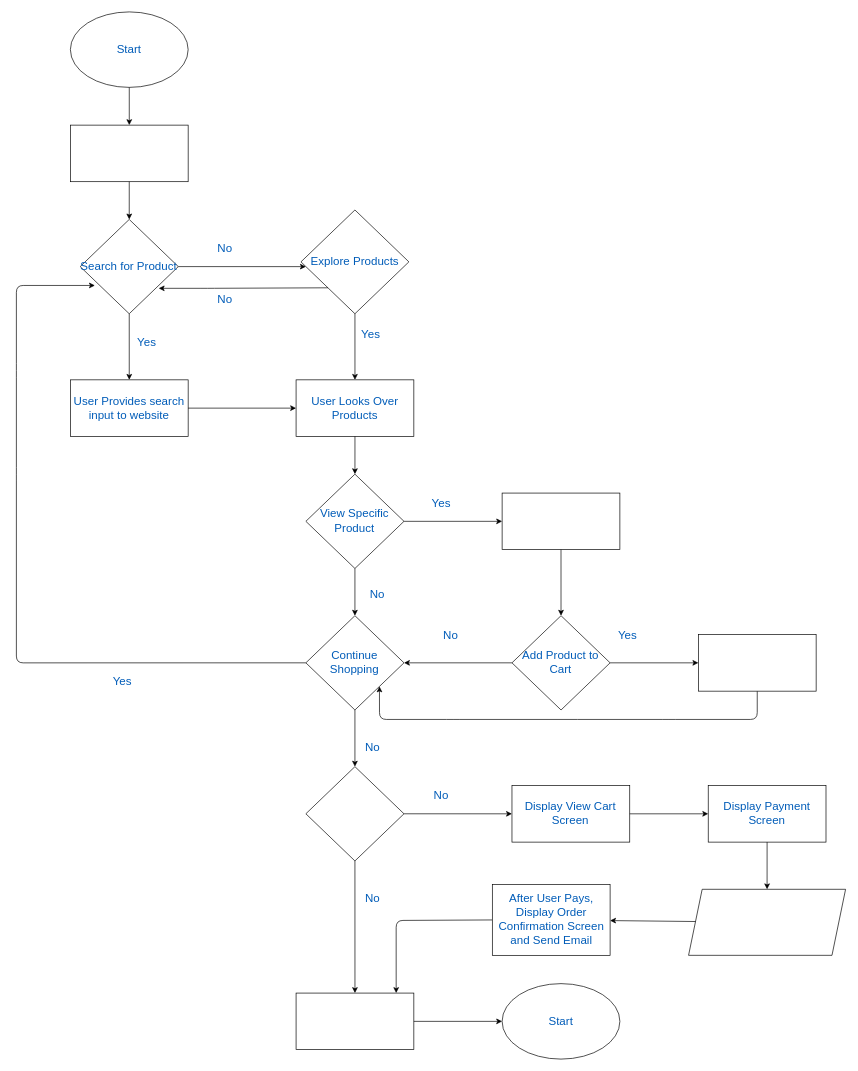
The diagram is 858 pixels wide and 1071 high, and some of its shapes have lost their labels. The centre of each missing label's shape, as x and y in pixels:
"Checkout" belongs at (354,813).
"Display Product Added to Cart Confirmation" belongs at (757,662).
"Enter Website" belongs at (129,153).
"Product's Webpage Is Open" belongs at (560,521).
"User Leaves Website" belongs at (354,1021).
"User Provides Payment Information" belongs at (767,922).
